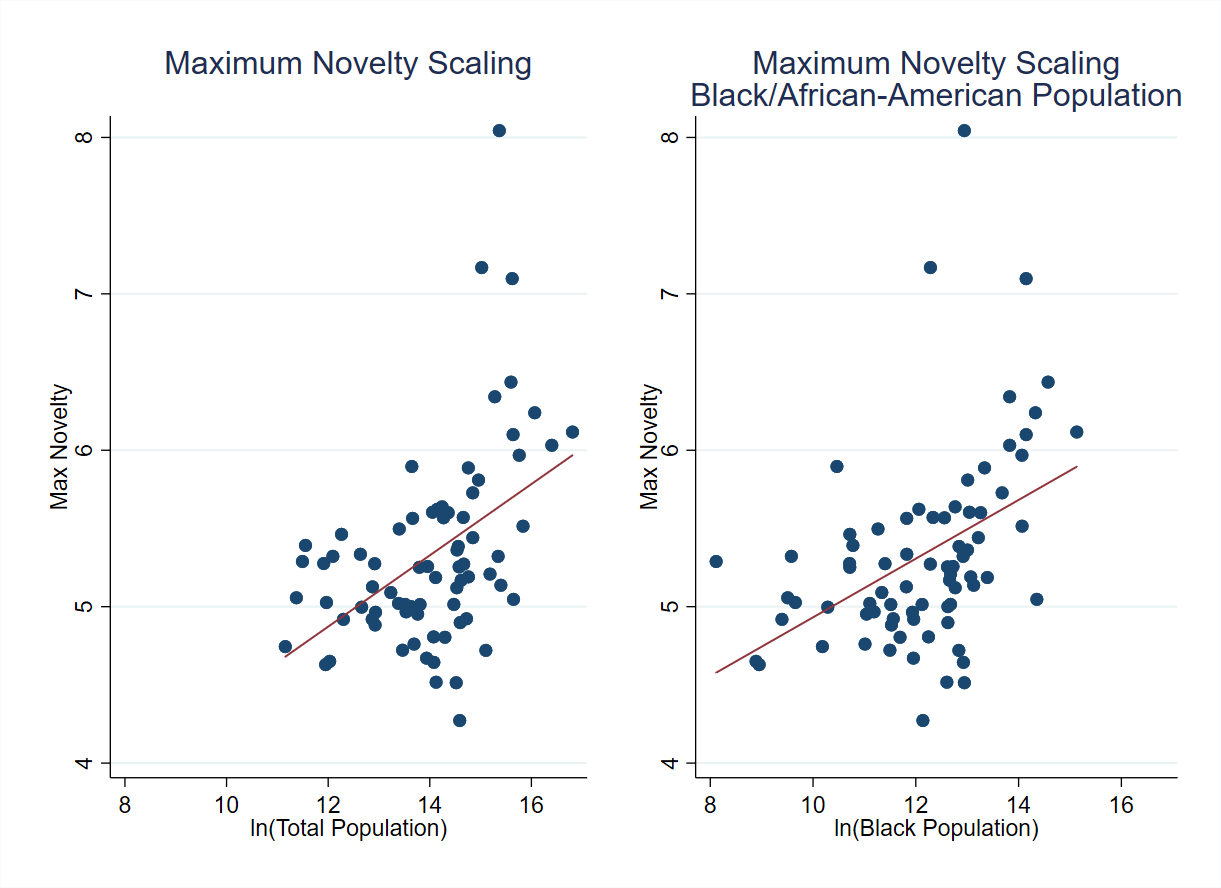

The dashboard page shown, as its layout file describes it:
{"tool":"tableau","page":{"name":"Dashboard 1","canvas":[1600,900],"ordinal":0},"visuals":[{"type":"worksheet","title":"Sheet 1","mark":"Automatic","box":[8,8,711.9,884]},{"type":"worksheet","title":"Sheet 1 (2)","mark":"Automatic","box":[719.9,8,712.1,884]},{"type":"currpage","title":"Sheet 1","box":[1432,8,160,110]}]}

Visuals, with their boxes on the page's 1600x900 design canvas (x1, y1, x2, y2). These are canvas units, not pixel positions in the 1221x888 screenshot, which may show the page scaled, cropped or inside an application window:
"Sheet 1" worksheet: bbox=(8, 8, 720, 892)
"Sheet 1 (2)" worksheet: bbox=(720, 8, 1432, 892)
"Sheet 1" currpage: bbox=(1432, 8, 1592, 118)
